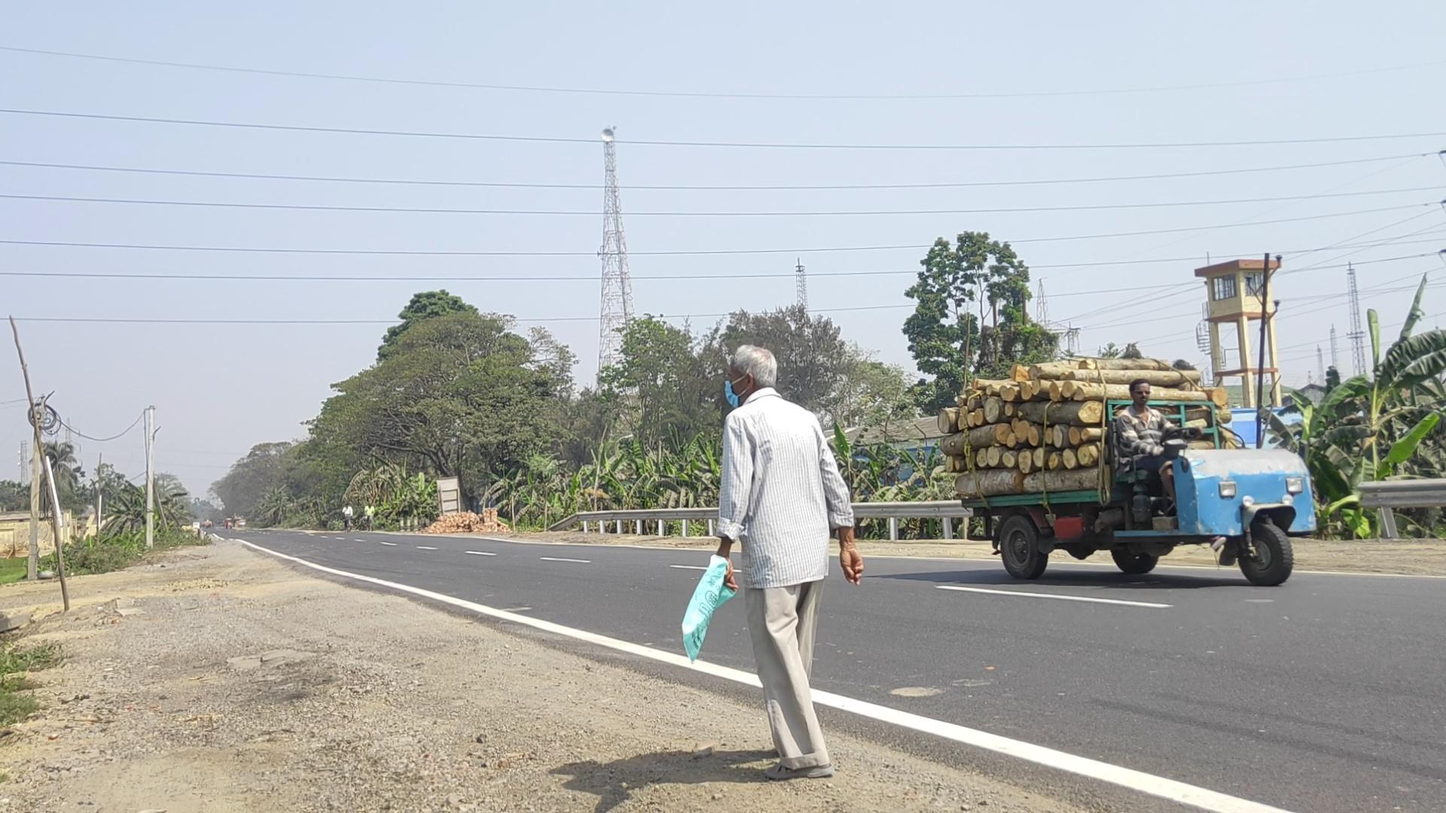bike: (363, 502, 375, 532), (343, 503, 352, 533)
